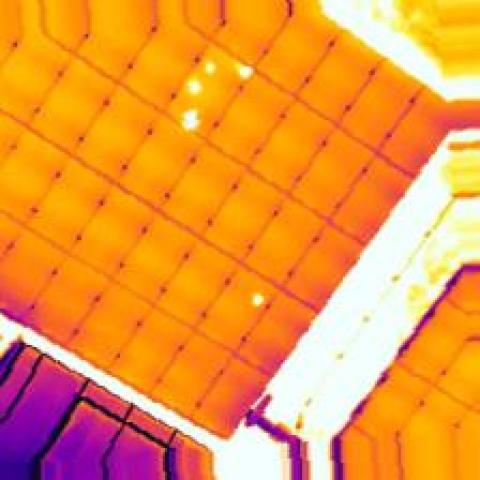fault: (176, 105, 204, 133), (197, 56, 221, 81), (231, 60, 255, 84), (246, 287, 268, 311), (182, 73, 204, 94)
